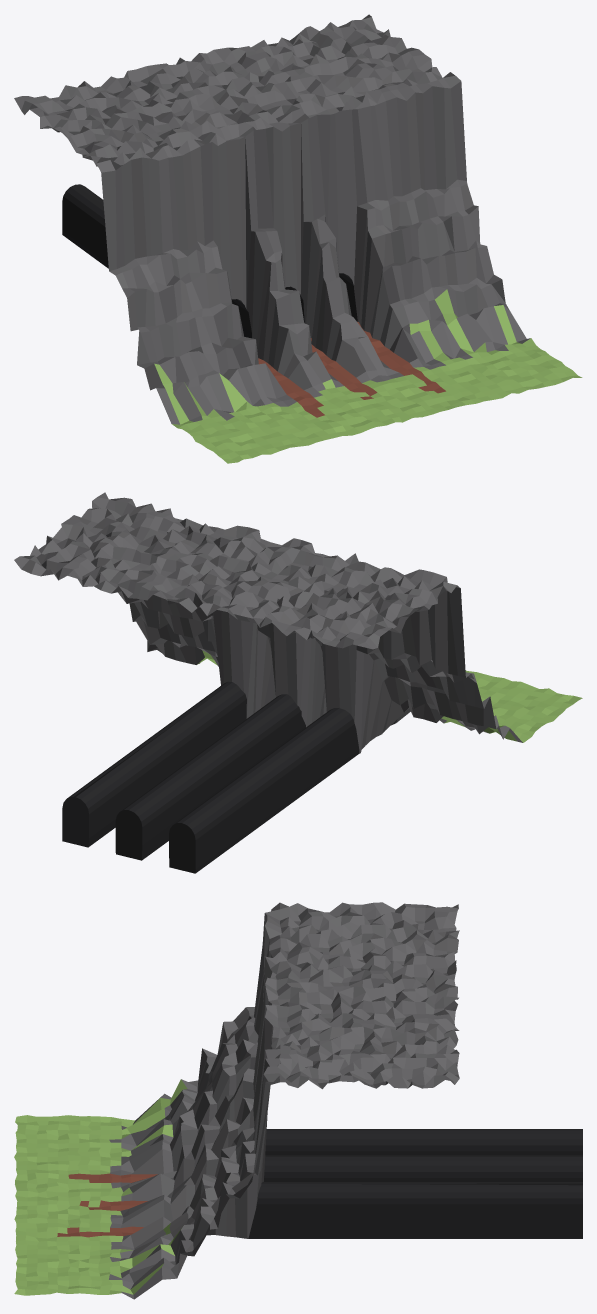
File: 3m5jam11.glb
3 views of the same model, one above another, from view 1: azimuth 30°, elevation 25°; view 2: azimuth 150°, elevation 25°; view 3: azimuth 270°, elevation 25° (orthographic). The views are drawn at different scales.
Parts seen in each view (by area): view 1: Ground; view 2: Ground; view 3: Ground.
Part boxes in pixels (bbox=[...]): Ground: bbox=[14, 14, 582, 463]; Ground: bbox=[14, 492, 582, 873]; Ground: bbox=[14, 902, 582, 1299].
Size of the model in its own units: 40.63 by 22.97 by 54.22.
Materials: 1 (1 with a texture image).
